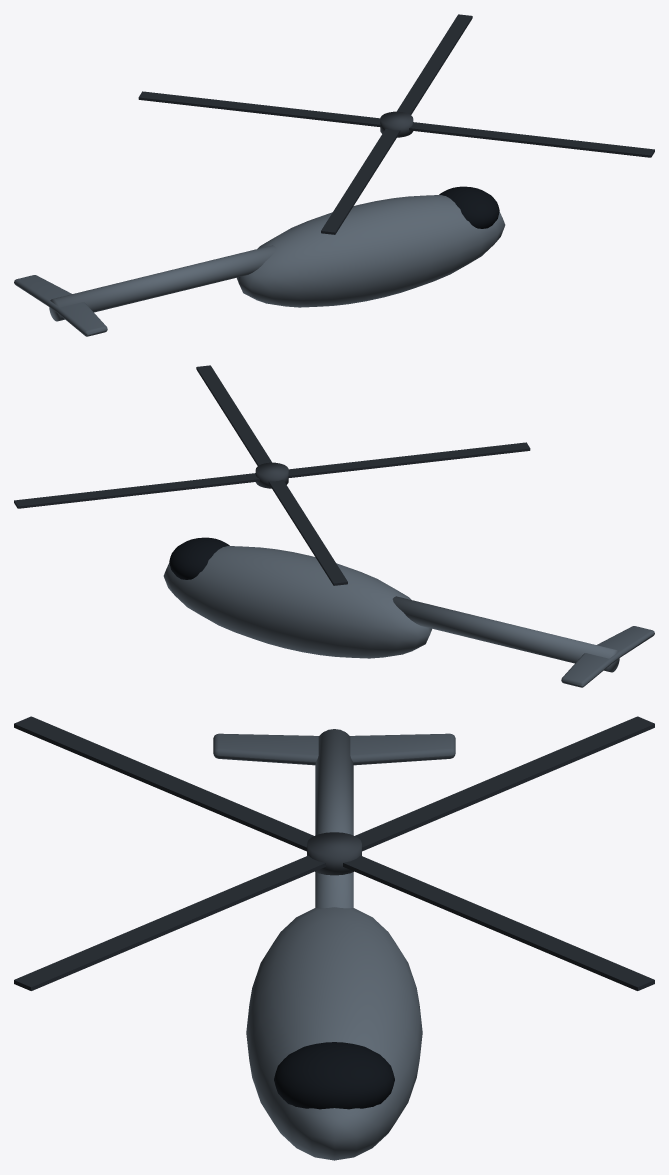
Rendered from heli_mil.glb.
The picture shows the model from 3 angles, top to bottom: view 1: azimuth 30°, elevation 25°; view 2: azimuth 150°, elevation 25°; view 3: azimuth 270°, elevation 25°; orthographic projection. The views are drawn at different scales.
Visible parts, largest first — view 1: fus, boom, blade0, blade2, stab, blade3, blade1, glass, hub; view 2: fus, boom, blade1, blade3, stab, blade2, blade0, glass, hub; view 3: fus, glass, stab, blade0, blade1, blade2, blade3, boom, hub.
Boxes of the visible parts, x1,y1,x2,y2 form: fus: (237,195,505,307); boom: (49,245,276,321); blade0: (409,122,654,157); blade2: (138,91,380,127); stab: (14,275,107,336); blade3: (321,129,400,234); blade1: (397,14,472,114); glass: (439,186,499,228); hub: (380,111,413,137); fus: (163,546,431,658); boom: (392,596,619,672); blade1: (14,473,259,508); blade3: (288,442,530,478); stab: (561,626,654,687); blade2: (268,480,347,585); blade0: (196,365,271,465); glass: (169,537,229,579); hub: (255,462,288,488); fus: (246,907,422,1160); glass: (274,1042,394,1109); stab: (213,733,455,765); blade0: (14,855,325,990); blade1: (343,855,654,990); blade2: (355,716,654,851); blade3: (14,716,313,851); boom: (315,729,353,908); hub: (307,832,361,875).
Size of the model in its own units: 17.91 by 5.6 by 11.62.
